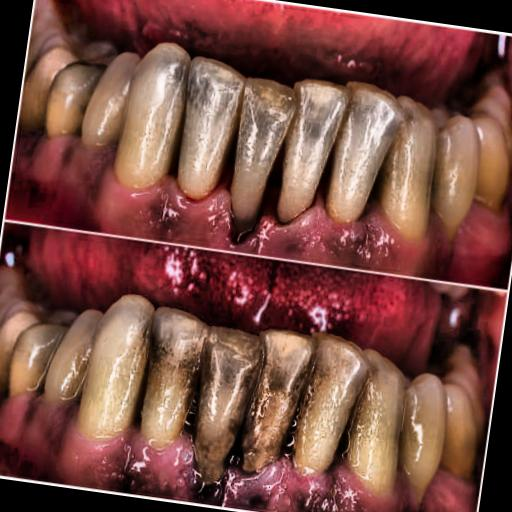Calculus: (97, 287, 404, 512)
